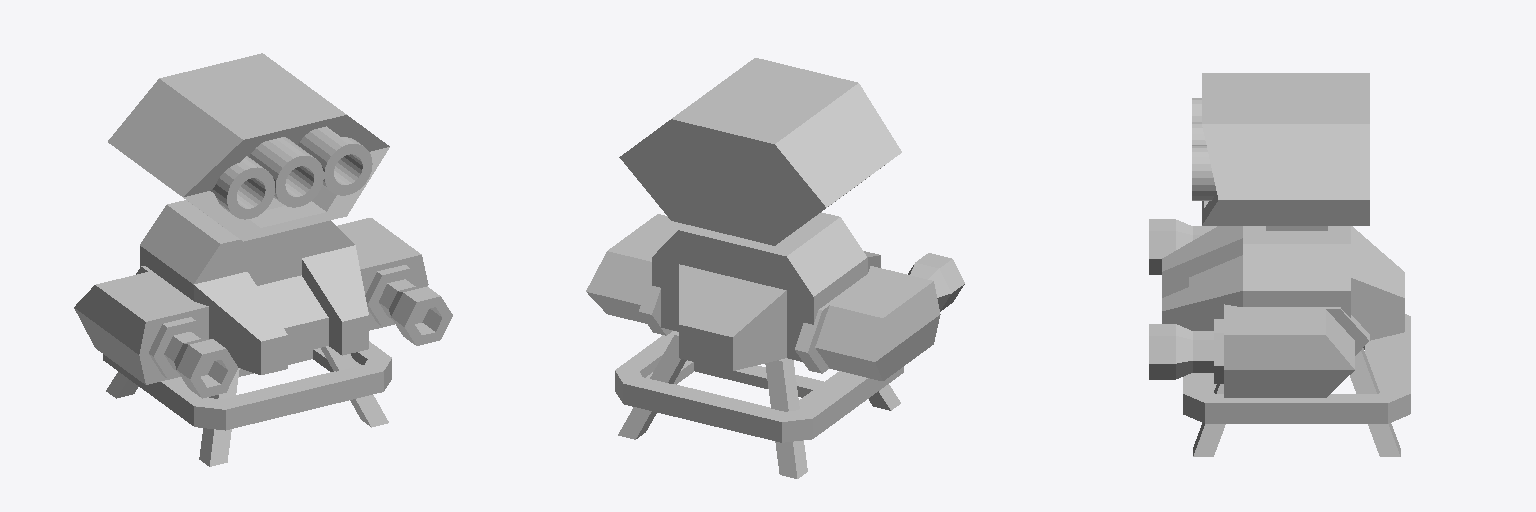
The model's file is walking_02_00.obj.
3 renders of one model, left to right at view 1: azimuth 30°, elevation 25°; view 2: azimuth 150°, elevation 25°; view 3: azimuth 270°, elevation 25°, orthographic.
Parts seen in each view (by area): view 1: mergedBlocks; view 2: mergedBlocks; view 3: mergedBlocks.
Boxes of the visible parts, <box> form: mergedBlocks: <box>74,53,452,466</box>; mergedBlocks: <box>586,58,964,478</box>; mergedBlocks: <box>1149,73,1410,456</box>.
Size of the model in its own units: 1.61 by 1.67 by 1.26.